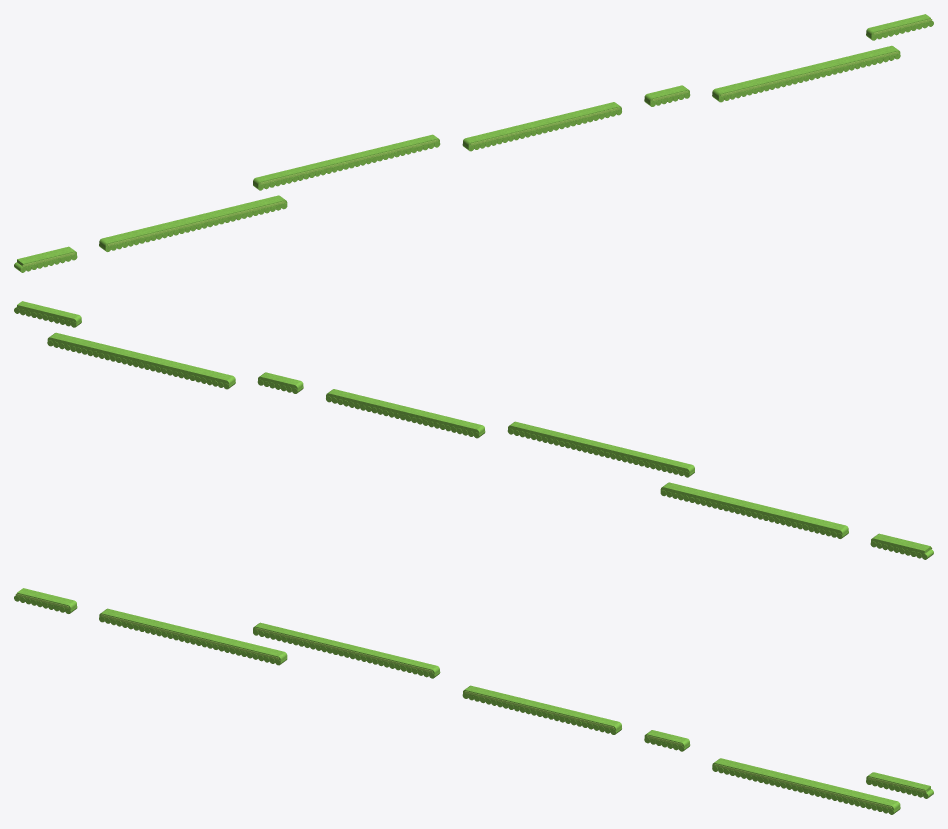
The model's file is gras_level1.glb.
3 views of the same model, one above another, from view 1: azimuth 30°, elevation 25°; view 2: azimuth 150°, elevation 25°; view 3: azimuth 330°, elevation 25° (orthographic).
Parts seen in each view (by area): view 1: gras_L1_06, gras_L1_02, gras_L1_03, gras_L1_04, gras_L1_07, gras_L1_01, gras_L1_05; view 2: gras_L1_06, gras_L1_02, gras_L1_03, gras_L1_04, gras_L1_07, gras_L1_01, gras_L1_05; view 3: gras_L1_02, gras_L1_06, gras_L1_03, gras_L1_04, gras_L1_07, gras_L1_01, gras_L1_05.
Part boxes in pixels (x1=…): gras_L1_06: x1=712, y1=45, x2=900, y2=102; gras_L1_02: x1=99, y1=195, x2=287, y2=251; gras_L1_03: x1=253, y1=134, x2=440, y2=190; gras_L1_04: x1=462, y1=102, x2=621, y2=151; gras_L1_07: x1=866, y1=14, x2=933, y2=40; gras_L1_01: x1=14, y1=246, x2=77, y2=272; gras_L1_05: x1=644, y1=85, x2=690, y2=106; gras_L1_06: x1=47, y1=332, x2=235, y2=389; gras_L1_02: x1=660, y1=482, x2=848, y2=538; gras_L1_03: x1=507, y1=421, x2=694, y2=477; gras_L1_04: x1=326, y1=389, x2=485, y2=438; gras_L1_07: x1=14, y1=301, x2=81, y2=327; gras_L1_01: x1=870, y1=533, x2=933, y2=559; gras_L1_05: x1=257, y1=372, x2=303, y2=393; gras_L1_02: x1=99, y1=608, x2=287, y2=665; gras_L1_06: x1=712, y1=758, x2=900, y2=814; gras_L1_03: x1=253, y1=622, x2=440, y2=678; gras_L1_04: x1=462, y1=685, x2=621, y2=734; gras_L1_07: x1=866, y1=772, x2=933, y2=798; gras_L1_01: x1=14, y1=588, x2=77, y2=613; gras_L1_05: x1=644, y1=730, x2=690, y2=751.
Size of the model in its own units: 96.6 by 3.32 by 1.23.
2 materials, 2 textured.
